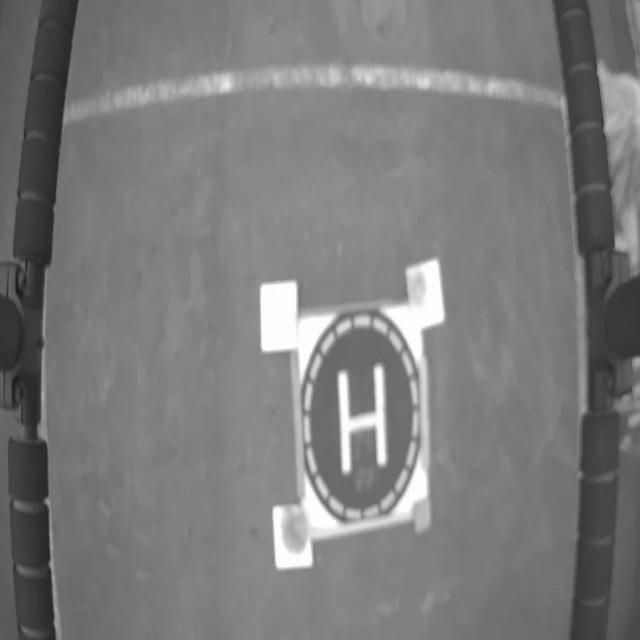Helipad: (336, 363, 388, 475)
